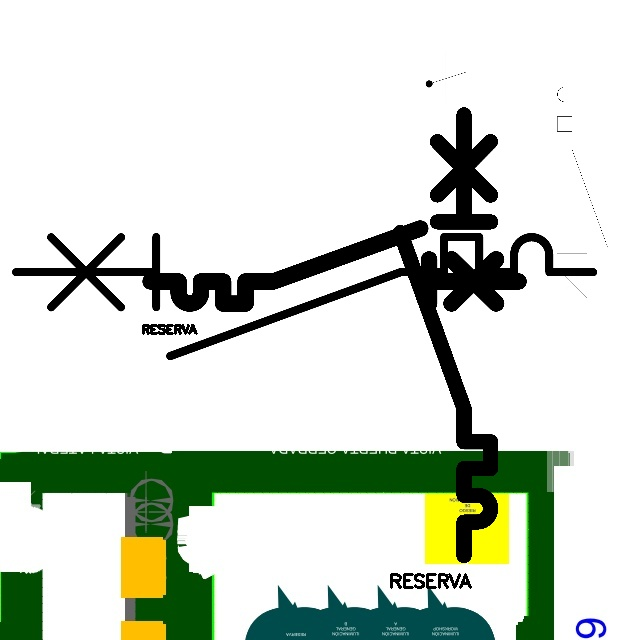interruptor_termomagnetico: (1, 222, 608, 370), (389, 103, 502, 566), (141, 219, 527, 313), (551, 62, 614, 319)
